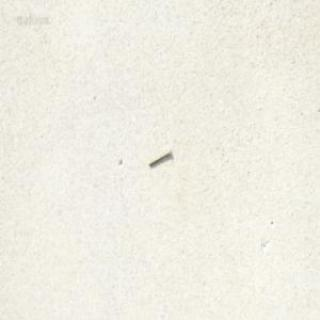Bolttrack_idkeyframe: (148, 147, 172, 167)
